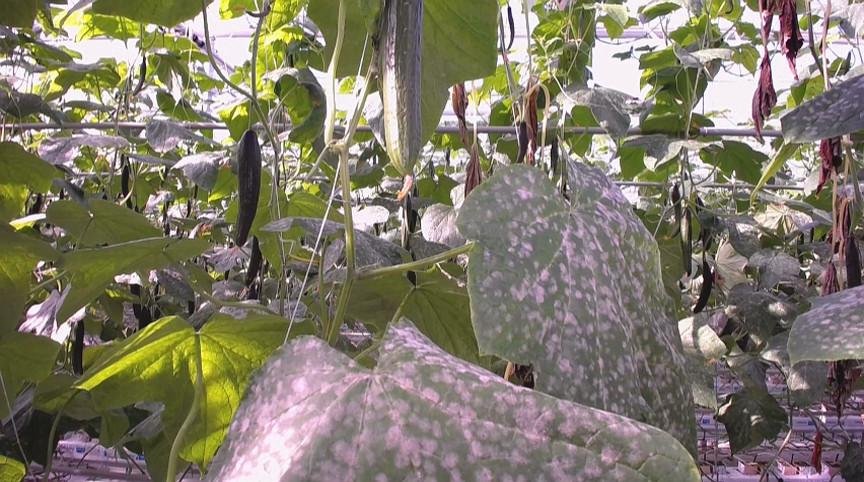cucumber: (380, 1, 423, 175), (234, 133, 261, 248), (692, 263, 716, 314)
